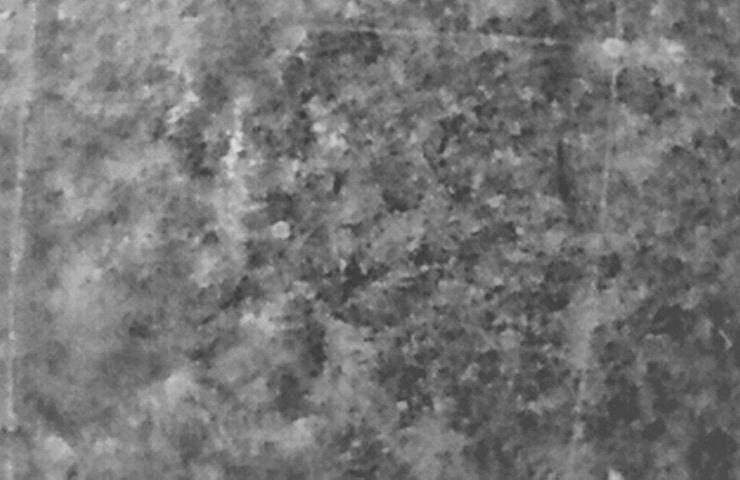landmines: (268, 218, 298, 244)
